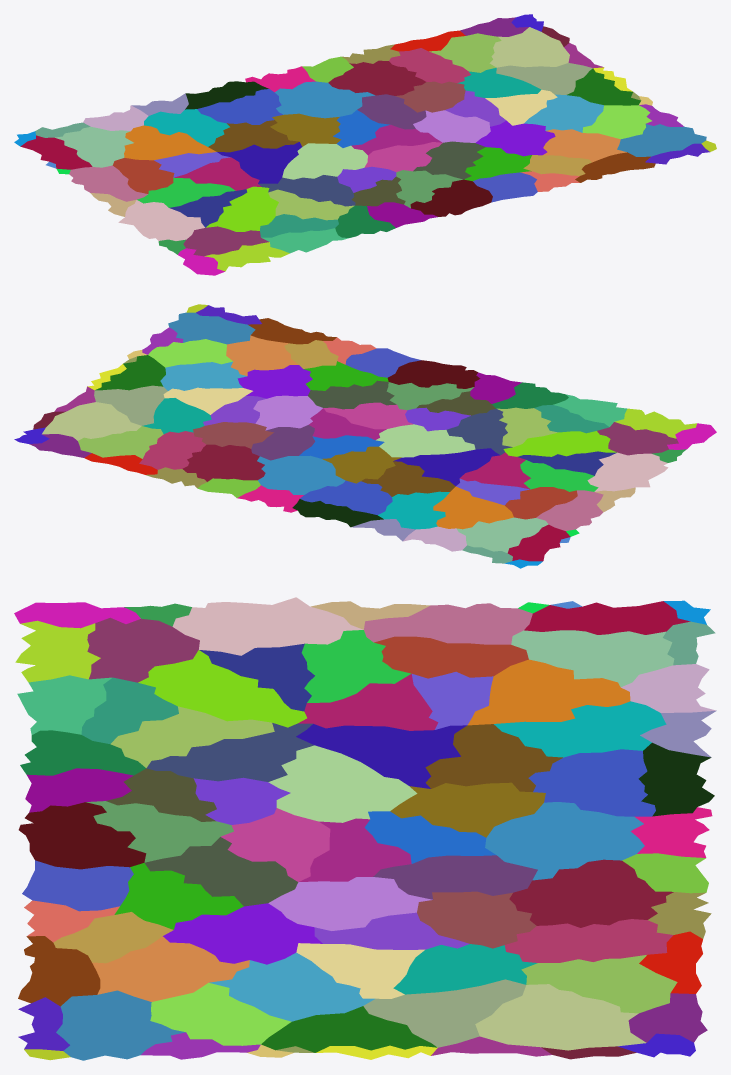
The model's file is mappaTassellata.gltf.
The picture shows the model from 3 angles, top to bottom: view 1: azimuth 30°, elevation 25°; view 2: azimuth 150°, elevation 25°; view 3: azimuth 270°, elevation 25°; orthographic projection. The views are drawn at different scales.
Visible parts, largest first — view 1: path_9, path_55, path_17, path_2, path_57, path_30, path_26, path_51, path_41, path_16, path_62, path_43 (+57 smaller); view 2: path_9, path_55, path_17, path_2, path_57, path_30, path_26, path_51, path_41, path_16, path_62, path_7 (+57 smaller); view 3: path_9, path_55, path_17, path_2, path_57, path_30, path_26, path_51, path_41, path_16, path_62, path_43 (+62 smaller).
Boxes of the visible parts, x1,y1,x2,y2 form: path_9: (275,81,375,118); path_55: (489,27,569,67); path_17: (328,60,425,95); path_2: (282,143,367,179); path_57: (118,200,204,240); path_30: (124,125,216,160); path_26: (206,186,278,231); path_51: (55,127,133,167); path_41: (524,94,603,132); path_16: (197,89,283,124); path_62: (617,124,706,156); path_43: (543,129,626,162); path_9: (257,455,345,494); path_55: (42,402,141,440); path_17: (182,444,265,481); path_2: (376,424,475,457); path_57: (587,452,668,491); path_30: (433,486,513,529); path_26: (503,431,616,456); path_51: (456,517,548,553); path_41: (160,361,246,390); path_16: (300,480,392,514); path_62: (168,312,255,344); path_7: (393,448,499,486); path_9: (485,802,644,880); path_55: (475,984,646,1050); path_17: (509,859,673,927); path_2: (268,745,417,822); path_57: (172,597,363,655); path_30: (468,659,630,725); path_26: (138,650,306,727); path_51: (511,630,674,686); path_41: (209,952,375,1021); path_16: (528,749,655,816); path_62: (56,990,185,1060); path_43: (92,936,249,1001).
Bounding box in the file's own units: 0.4724 × 0 × 0.3028.
